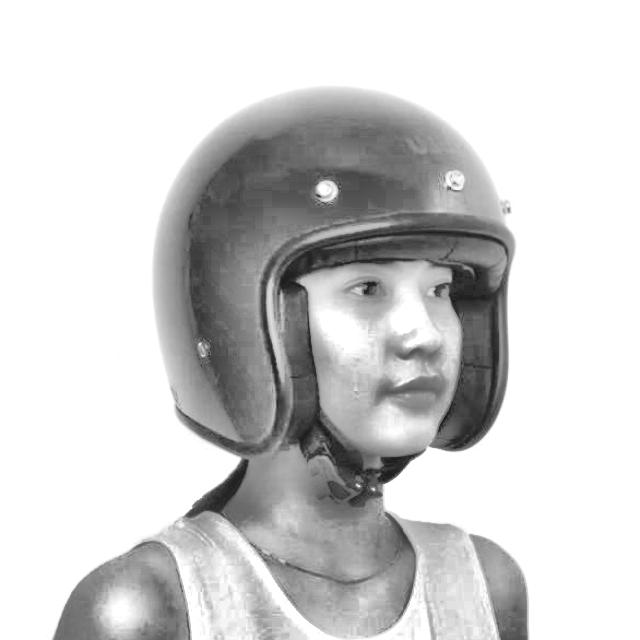Helmet: (139, 76, 521, 514)
